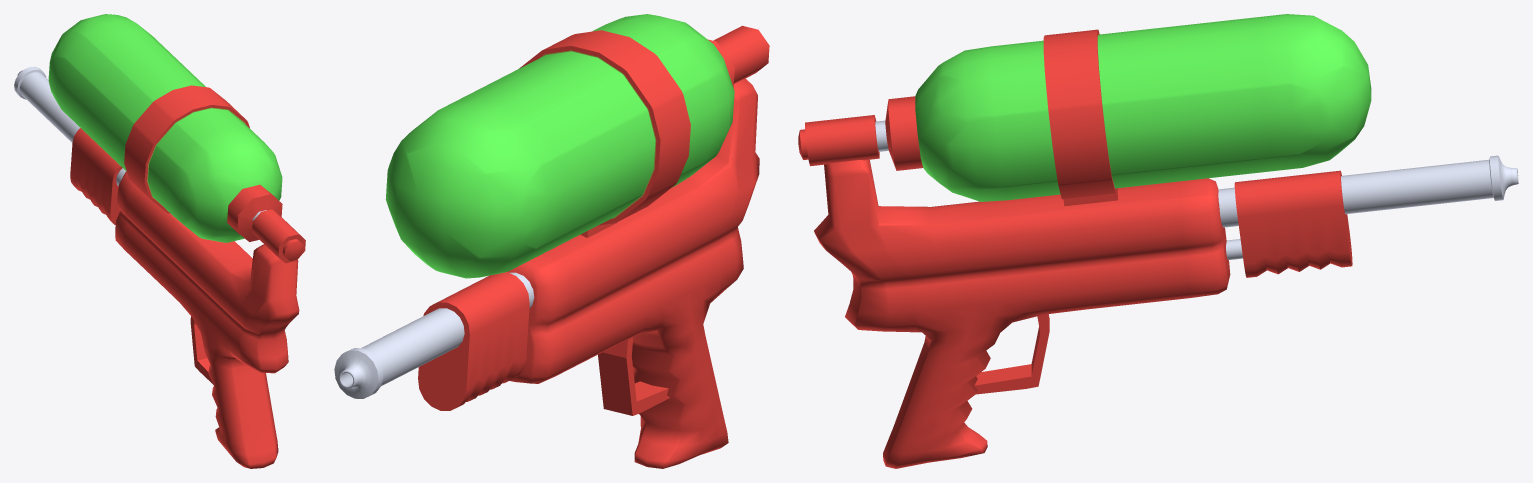
Rendered from watergun.gltf.
3 renders of one model, left to right at view 1: azimuth 30°, elevation 25°; view 2: azimuth 150°, elevation 25°; view 3: azimuth 270°, elevation 25°, orthographic. The views are drawn at different scales.
Visible parts, largest first — view 1: Body_1, Slider_0; view 2: Body_1, Slider_0; view 3: Body_1, Slider_0.
Part boxes in pixels (x1,y1,x2,y2): Body_1: (48,14,305,468); Slider_0: (14,66,125,224); Body_1: (385,14,769,468); Slider_0: (334,272,534,410); Body_1: (798,14,1371,468); Slider_0: (1218,155,1518,277).
Bounding box in the file's own units: 0.0846 × 0.2517 × 0.3733.
Materials: 1 (1 with a texture image).
